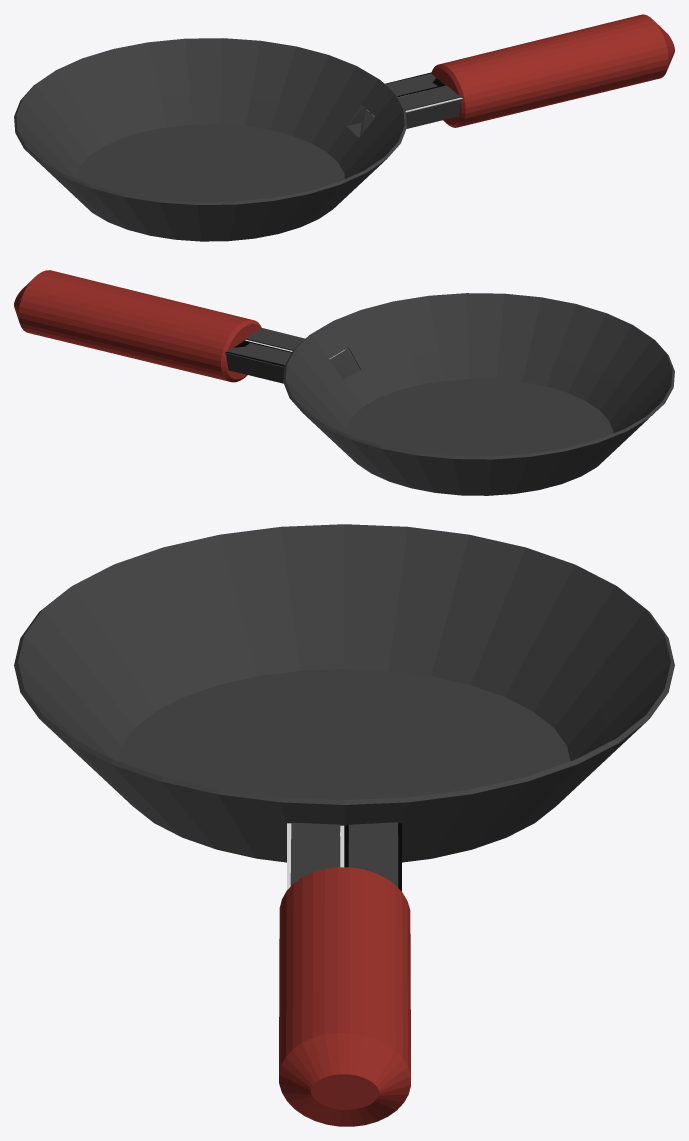
File: Sarten.fbx
3 views of the same model, one above another, from view 1: azimuth 30°, elevation 25°; view 2: azimuth 150°, elevation 25°; view 3: azimuth 270°, elevation 25° (orthographic). The views are drawn at different scales.
Parts seen in each view (by area): view 1: Circle.001, Circle.008; view 2: Circle.001, Circle.008; view 3: Circle.001, Circle.008.
Boxes of the visible parts, x1,y1,x2,y2 form: Circle.001: (14,38,462,241); Circle.008: (431,14,674,127); Circle.001: (225,293,674,495); Circle.008: (14,270,261,382); Circle.001: (14,524,674,887); Circle.008: (279,867,410,1126).
Size of what is drawn, in the model's own units: 1590 by 155 by 865.
